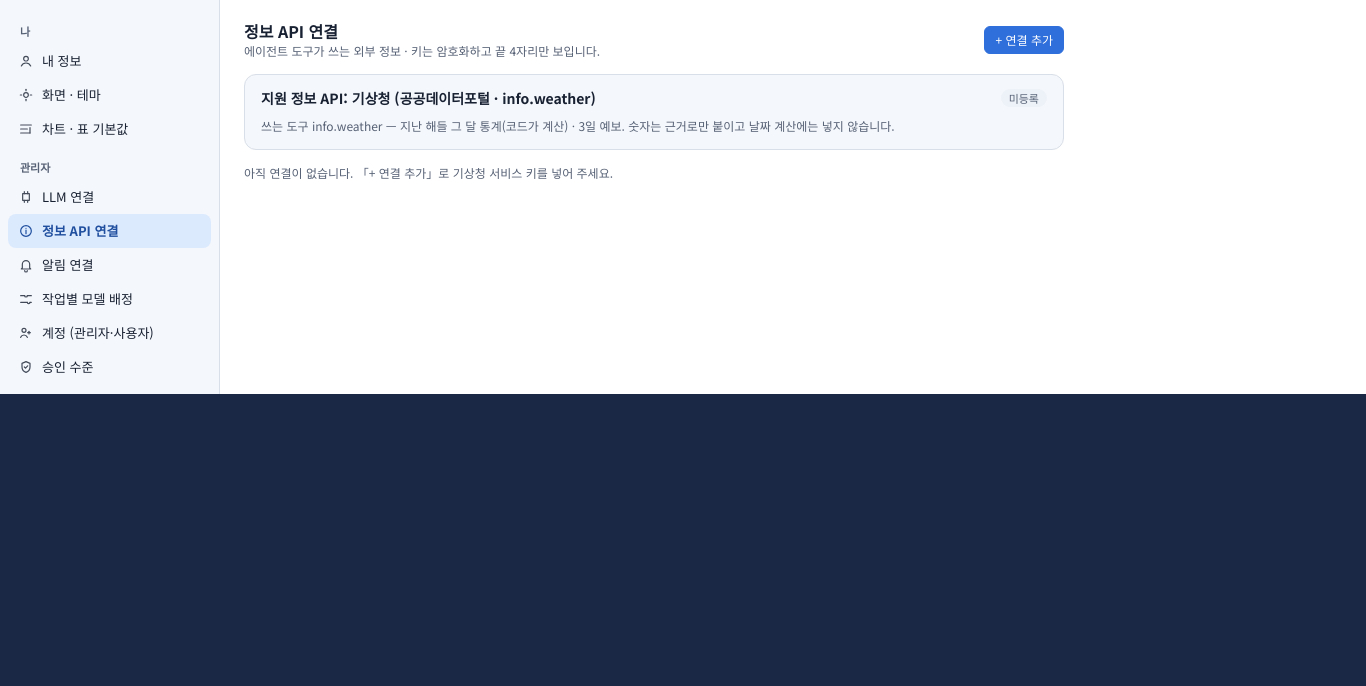
Scenario: a quick-fill template fills every field except the key, and the name only when empty
Click the button "+ 연결 추가".
click(1024, 40)  # box top-left (984, 26), bottom-right (1064, 54)
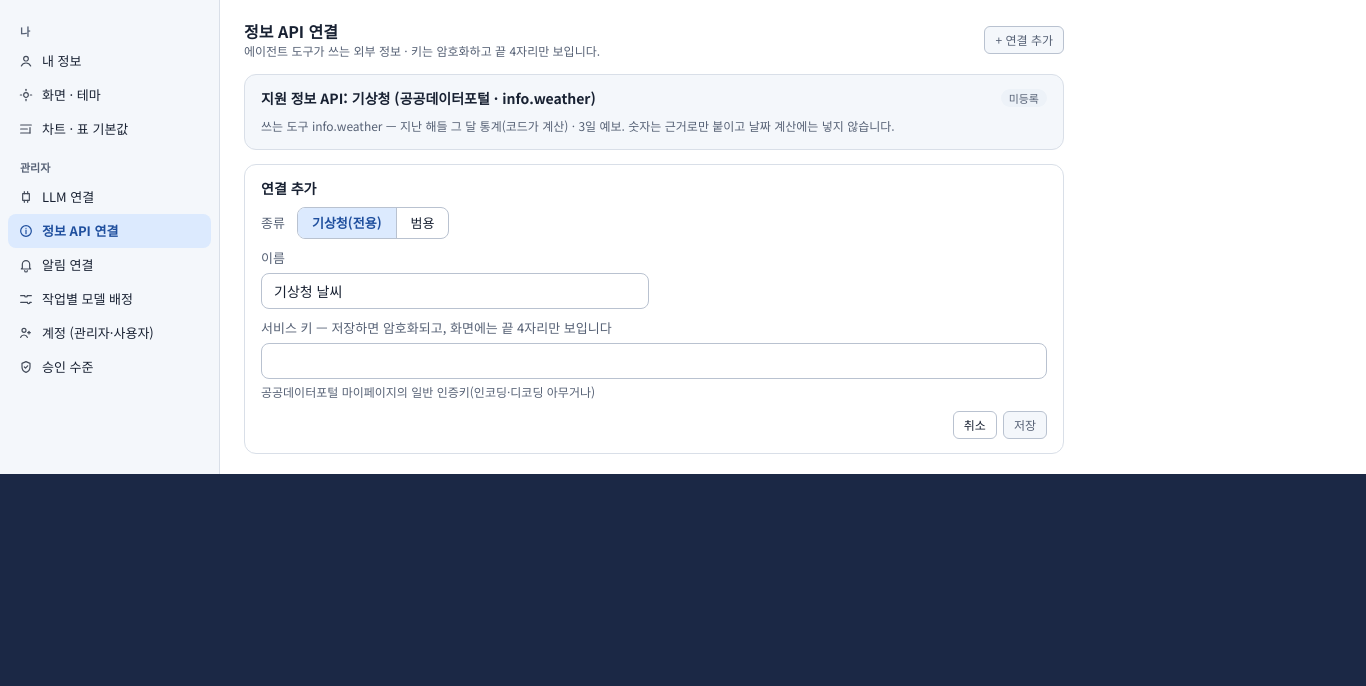
Click the radio button labelled "범용".
click(422, 223)  # box top-left (396, 208), bottom-right (448, 238)
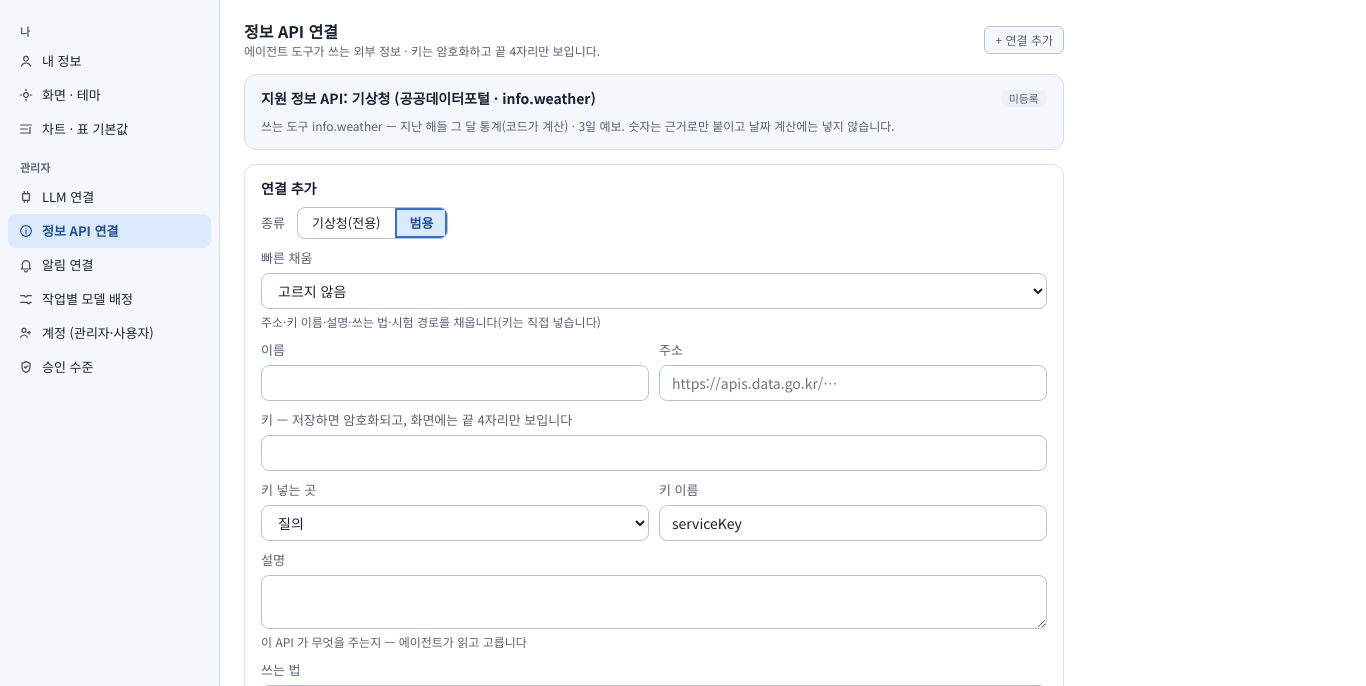
Type "abcd1234efgh5678" into the password field labelled "키 — 저장하면 암호화되고, 화면에는 끝 4자리만 보입니다".
click(654, 453); type("abcd1234efgh5678")  # box top-left (261, 435), bottom-right (1047, 471)
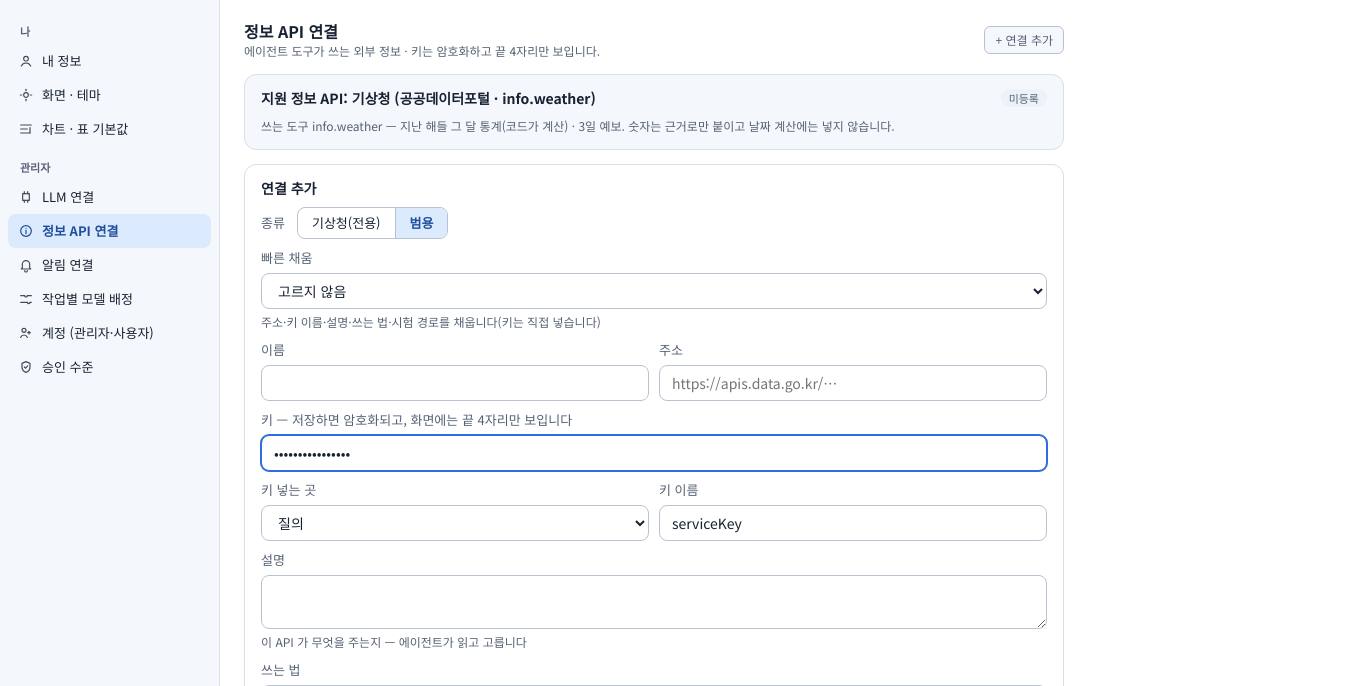
Select "특일 정보(공휴일)" in the dropdown labelled "빠른 채움" at (654, 291), box top-left (261, 273), bottom-right (1047, 309)
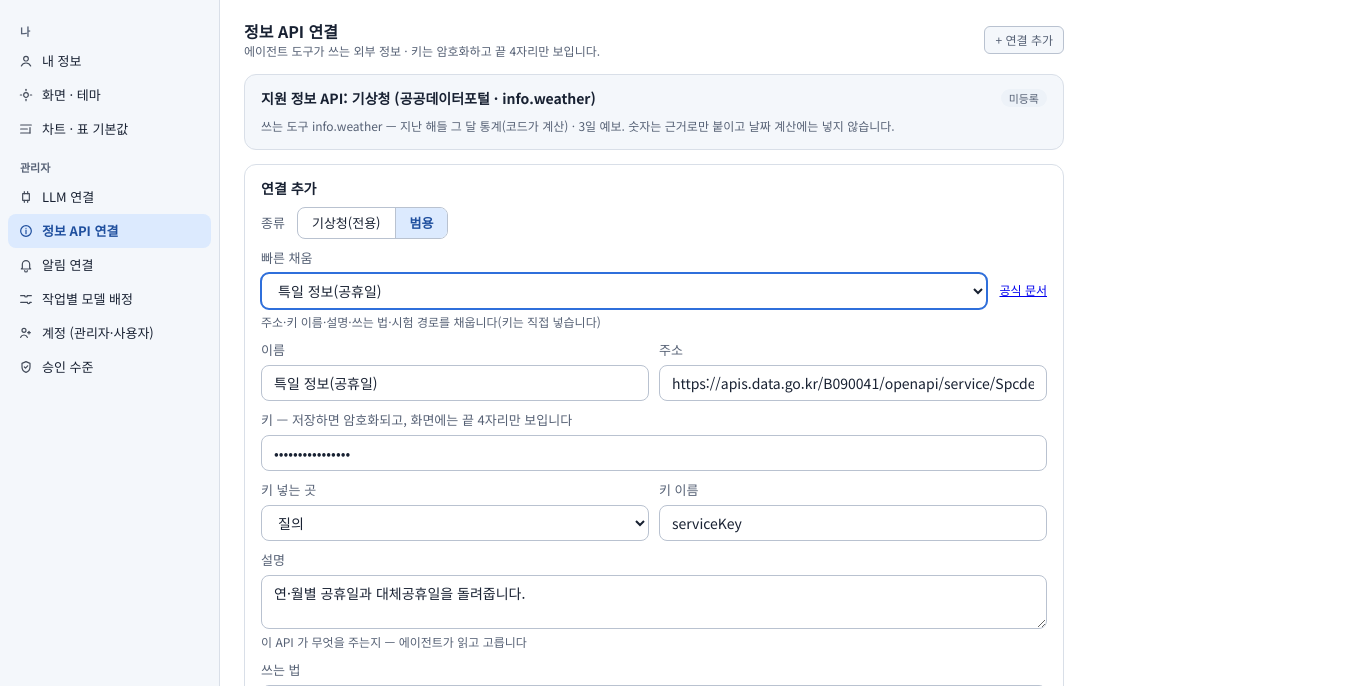
Expected: the dropdown labelled "키 넣는 곳" shows "질의", top-left (261, 505), bottom-right (649, 541)
Expected: the field labelled "이름" holds "특일 정보(공휴일)"
Expected: the field labelled "주소" holds "https://apis.data.go.kr/B090041/openapi/service/SpcdeInfoService", top-left (659, 365), bottom-right (1047, 401)
Replace the text in the field labelled "이름" with "대기 정보" at (455, 383), box top-left (261, 365), bottom-right (649, 401)
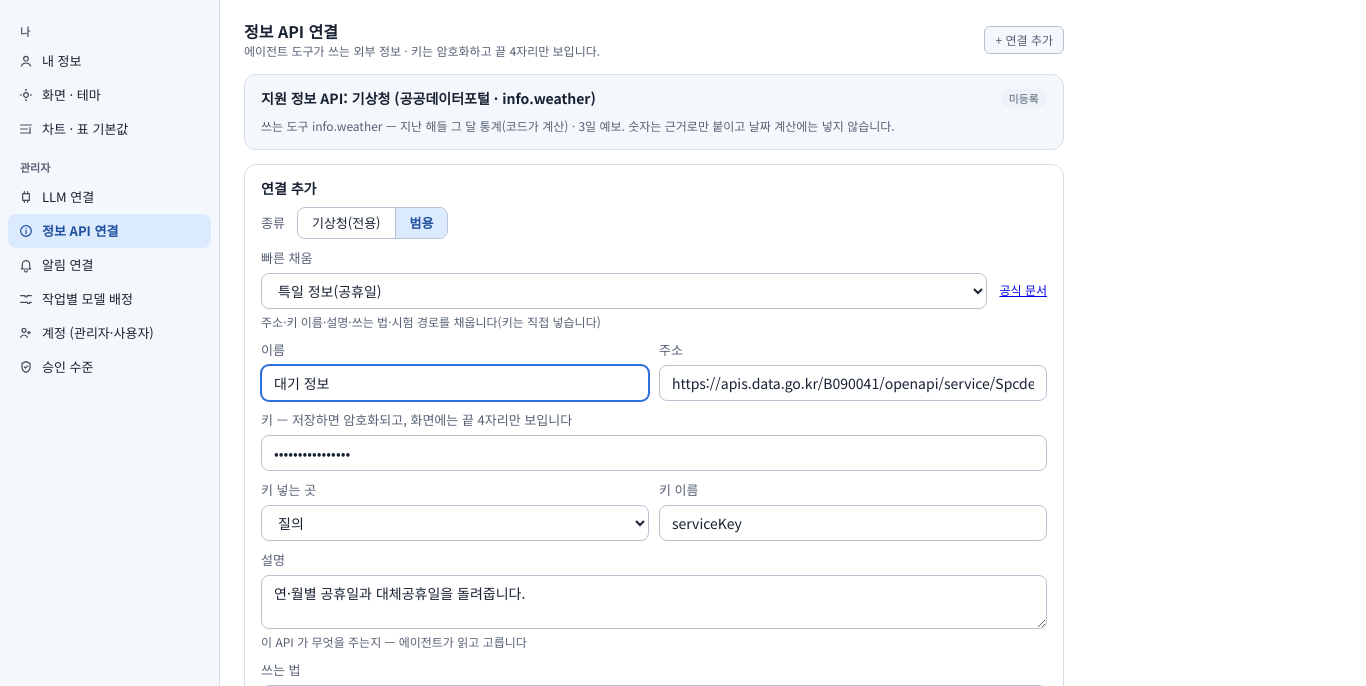
Select "에어코리아 대기오염" in the dropdown labelled "빠른 채움" at (624, 291), box top-left (261, 273), bottom-right (988, 309)
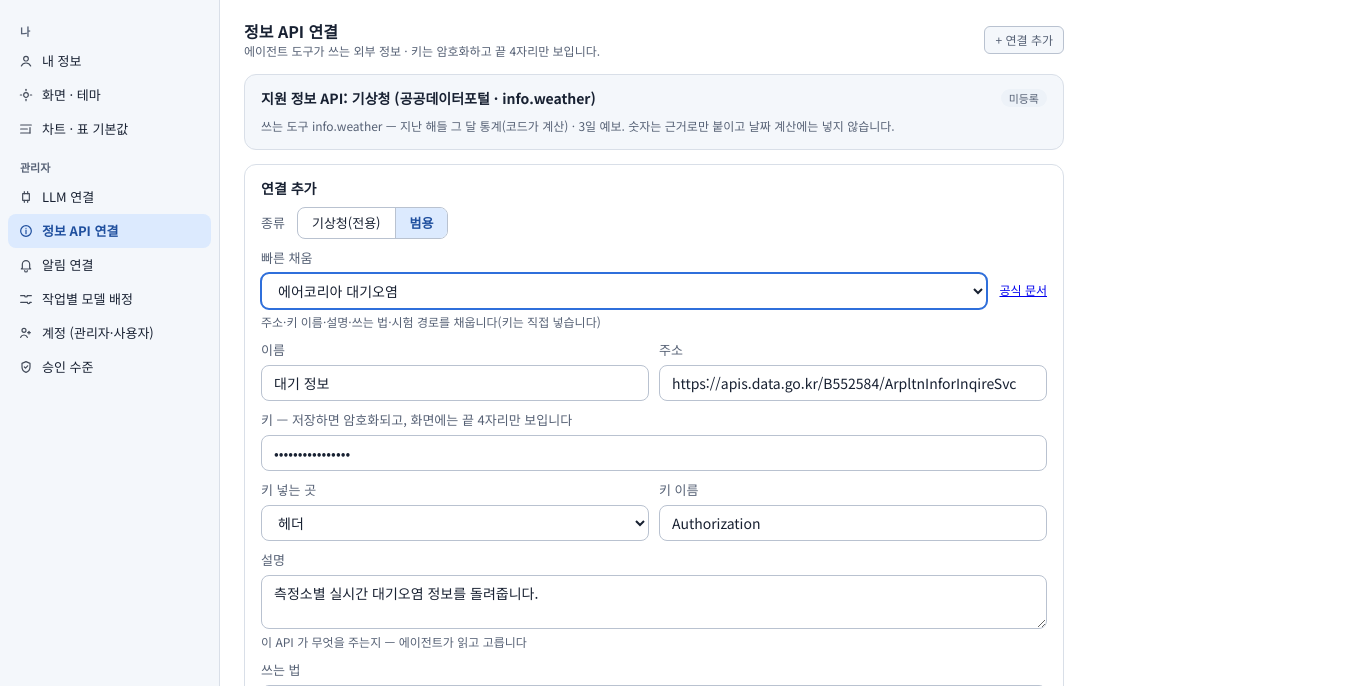
Expected: the dropdown labelled "키 넣는 곳" shows "헤더", top-left (261, 505), bottom-right (649, 541)
Expected: the field labelled "키 이름" holds "Authorization", top-left (659, 505), bottom-right (1047, 541)
